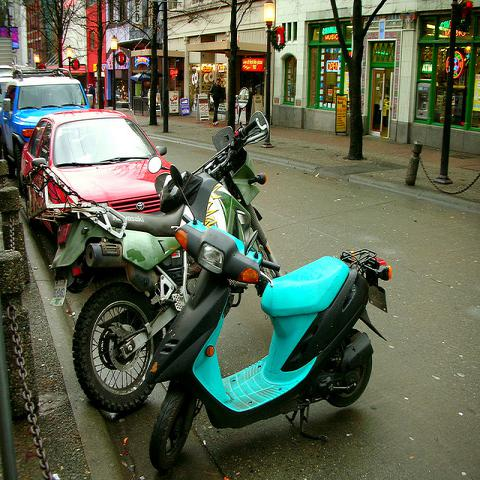car: (19, 102, 163, 211), (0, 67, 90, 197), (0, 76, 14, 103)
motorcycle: (24, 87, 276, 412), (150, 217, 394, 471)
